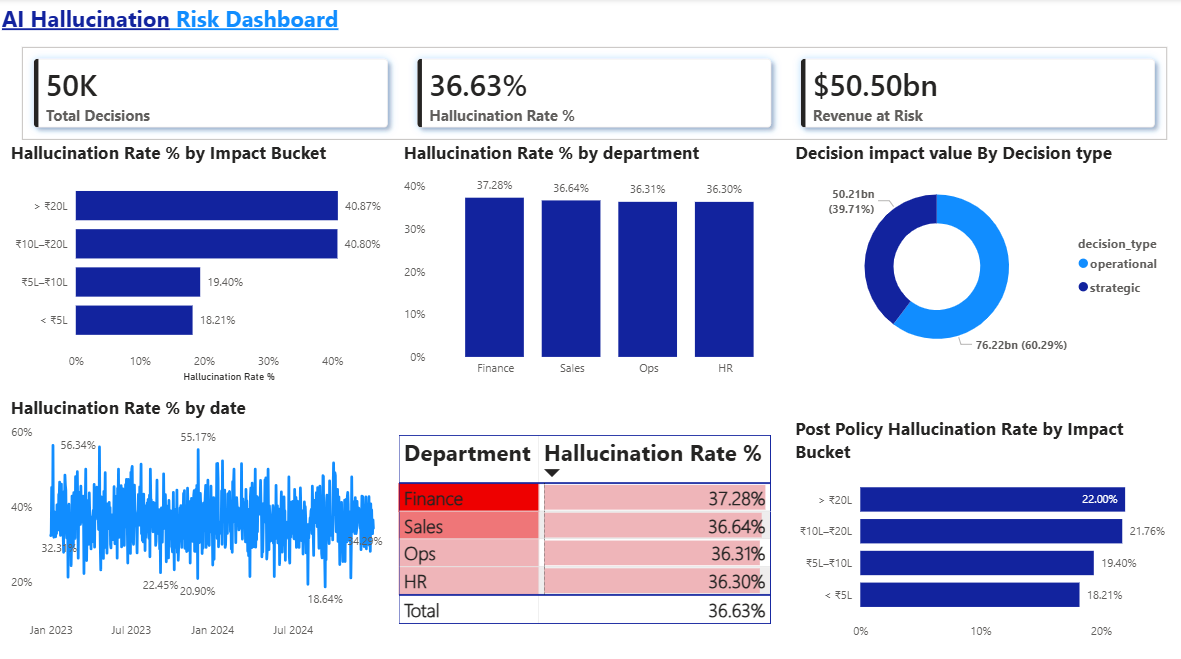

The page's visual inventory and layout, read from the dashboard file:
{"tool":"powerbi","page":{"name":"Dashboard","canvas":[1280,720],"ordinal":0},"visuals":[{"type":"cardVisual","fields":{"Data":["All Measures.Total Decisions","All Measures.Hallucination Rate %","All Measures.Revenue at Risk"]},"box":[9.7,35.6,1271.1,134.4],"z":0},{"type":"barChart","fields":{"Y":["All Measures.Hallucination Rate %"],"Category":["v_ai_hallucination.Impact Bucket"]},"box":[10.1,153.9,423.3,265.3],"z":1000},{"type":"columnChart","fields":{"Y":["All Measures.Hallucination Rate %"],"Category":["v_ai_hallucination.department"]},"box":[433.4,153.9,423.3,263.3],"z":2000},{"type":"donutChart","title":"Decision impact value By Decision type","fields":{"Y":["Sum(v_ai_hallucination.decision_impact_value)"],"Category":["v_ai_hallucination.decision_type"]},"box":[856.7,153.9,423.3,247.1],"z":3000},{"type":"lineChart","fields":{"Category":["v_ai_hallucination.date"],"Y":["All Measures.Hallucination Rate %"]},"box":[10.1,429.4,423.3,271.4],"z":4000},{"type":"tableEx","fields":{"Values":["v_ai_hallucination.department","All Measures.Hallucination Rate %"]},"box":[427.3,465.8,423.3,222.8],"z":5000},{"type":"clusteredBarChart","fields":{"Y":["All Measures.Post Policy Hallucination Rate"],"Category":["v_ai_hallucination.Impact Bucket"]},"box":[856.7,451.6,423.3,249.1],"z":6000},{"type":"textbox","box":[0,0,680.1,50.2],"z":7000}]}

Visuals, with their boxes in screenshot pixels (x1, y1, x2, y2), scaled from the page's 1280x720 canvas onto the 1181x659 screenshot:
cardVisual - All Measures.Total Decisions x All Measures.Hallucination Rate %: x1=9 y1=33 x2=1180 y2=156
barChart - All Measures.Hallucination Rate % x v_ai_hallucination.Impact Bucket: x1=9 y1=141 x2=400 y2=384
columnChart - All Measures.Hallucination Rate % x v_ai_hallucination.department: x1=400 y1=141 x2=790 y2=382
"Decision impact value By Decision type" donutChart: x1=790 y1=141 x2=1180 y2=367
lineChart - v_ai_hallucination.date x All Measures.Hallucination Rate %: x1=9 y1=393 x2=400 y2=641
tableEx - v_ai_hallucination.department x All Measures.Hallucination Rate %: x1=394 y1=426 x2=785 y2=630
clusteredBarChart - All Measures.Post Policy Hallucination Rate x v_ai_hallucination.Impact Bucket: x1=790 y1=413 x2=1180 y2=641
textbox: x1=0 y1=0 x2=627 y2=46
